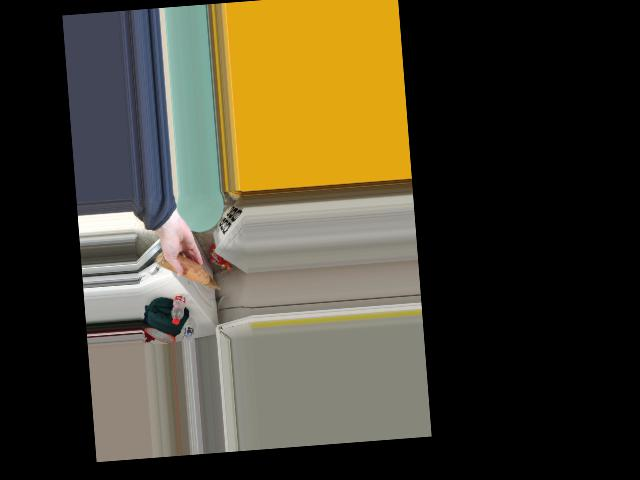sweet_potato: (169, 253, 205, 288)
